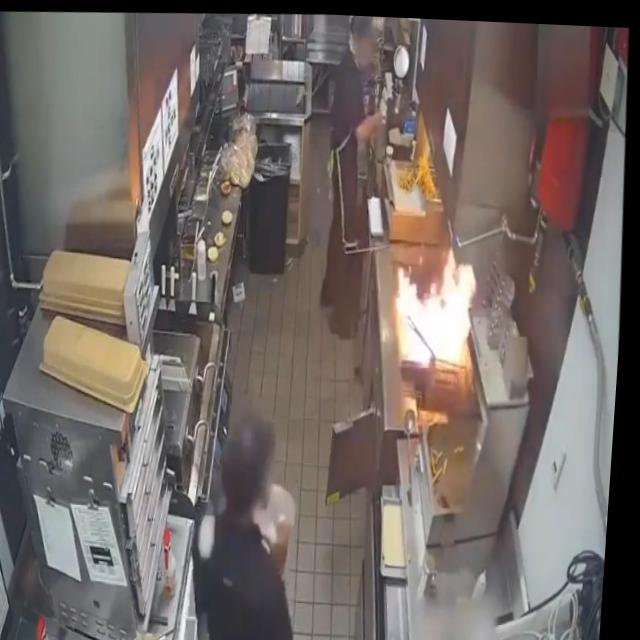fire: (386, 227, 493, 381)
